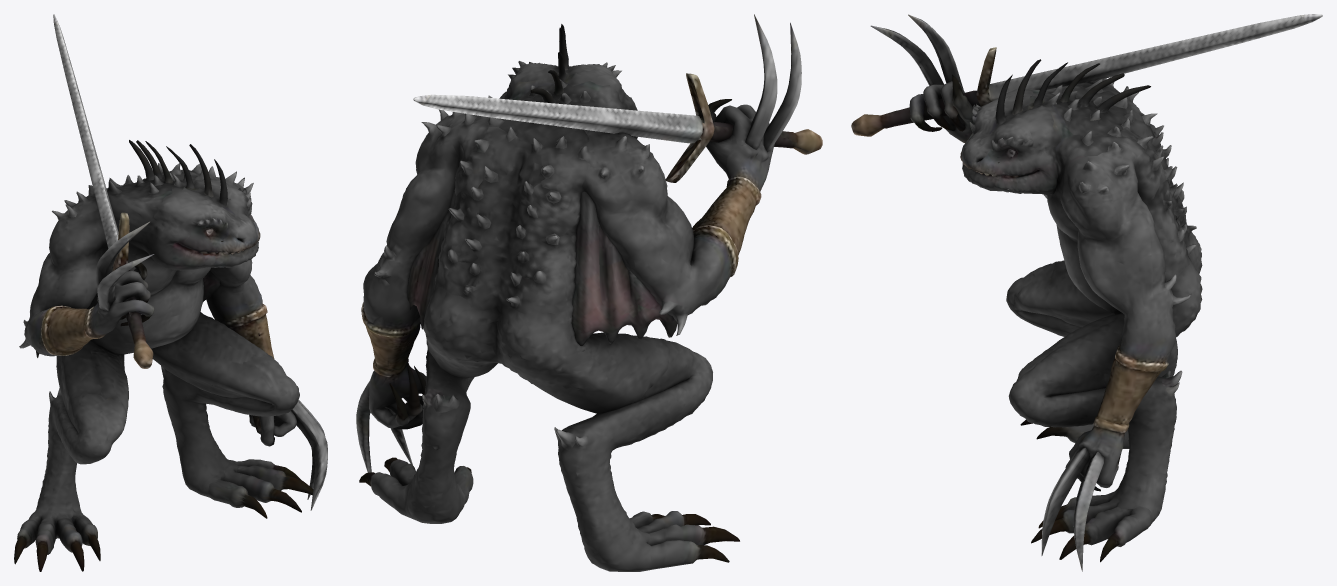
Rendered from MZ4250 - Gray Slaad_sword.glb.
The picture shows the model from 3 angles, left to right: view 1: azimuth 30°, elevation 25°; view 2: azimuth 150°, elevation 25°; view 3: azimuth 270°, elevation 25°; orthographic projection. The views are drawn at different scales.
Visible parts, largest first — view 1: Body.001; view 2: Body.001; view 3: Body.001.
Boxes of the visible parts, <box> form: Body.001: <box>14,14,327,571</box>; Body.001: <box>356,14,822,571</box>; Body.001: <box>851,14,1322,571</box>.
Size of the model in its own units: 59.82 by 81.2 by 72.12.
2 materials, 2 textured.
